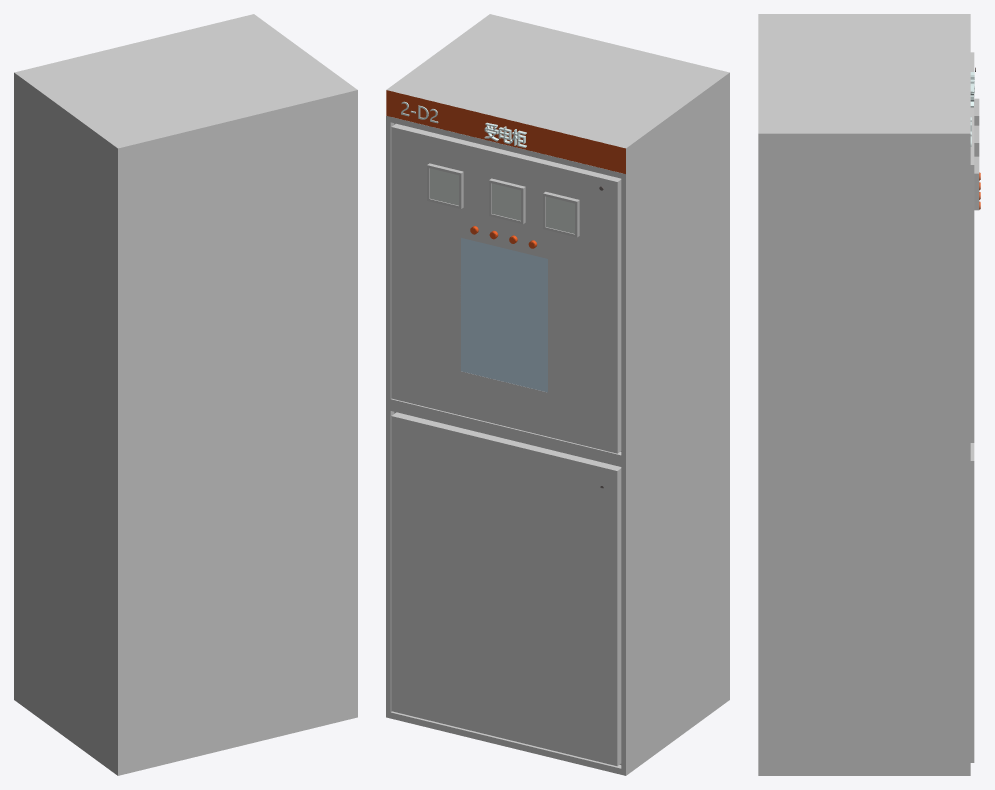
The model's file is inlineBox_mini.gltf.
3 renders of one model, left to right at view 1: azimuth 30°, elevation 25°; view 2: azimuth 150°, elevation 25°; view 3: azimuth 270°, elevation 25°, orthographic. The views are drawn at different scales.
Parts seen in each view (by area): view 1: 进线柜; view 2: 进线柜; view 3: 进线柜.
Part boxes in pixels (<box>): 进线柜: <box>14,14,357,775</box>; 进线柜: <box>386,14,729,775</box>; 进线柜: <box>758,14,980,775</box>.
Size of the model in its own units: 80.02 by 200 by 62.83.
